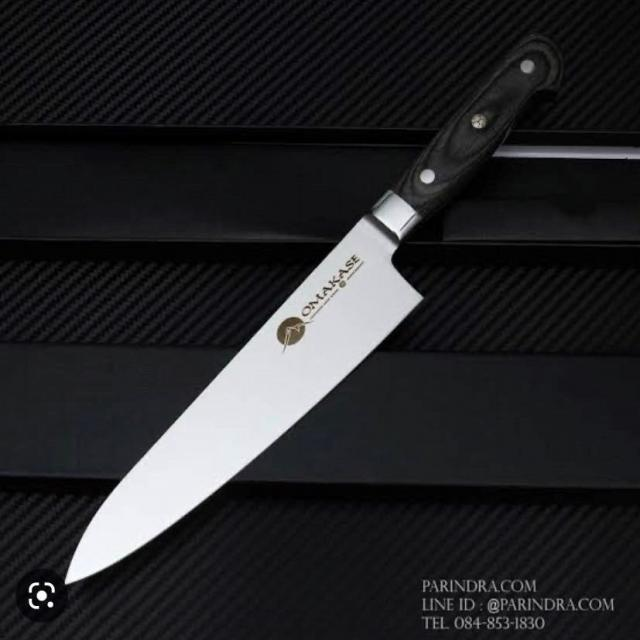Knife: (65, 37, 562, 586)
